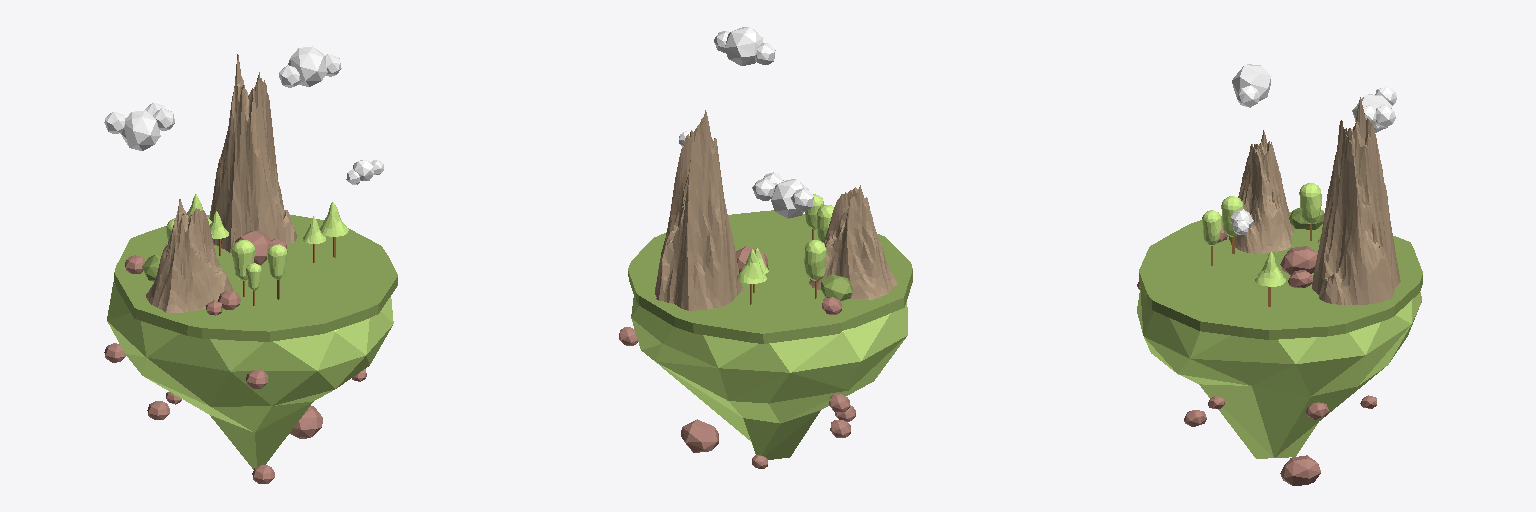
The picture shows the model from 3 angles: view 1: azimuth 30°, elevation 25°; view 2: azimuth 150°, elevation 25°; view 3: azimuth 270°, elevation 25°; orthographic projection.
Parts seen in each view (by area): view 1: 球体_1, 立方体_3, 地形, 地形_1, 球体.13, 球体, 胶囊, 球体.10, 球体.3, 圆锥, 胶囊.2; view 2: 球体_1, 立方体_3, 地形, 地形_1, 球体, 球体.10, 球体.13, 胶囊.3, 球体.4, 圆锥.3; view 3: 球体_1, 立方体_3, 地形, 地形_1, 球体.10, 球体, 球体.3, 胶囊.3, 圆锥, 胶囊.2, 胶囊.
Part boxes in pixels (x1,y1,x2,y2): 球体_1: (107, 282, 393, 469); 立方体_3: (114, 214, 397, 341); 地形: (209, 54, 296, 252); 地形_1: (146, 199, 233, 312); 球体.13: (120, 110, 160, 150); 球体: (288, 46, 327, 86); 胶囊: (232, 240, 254, 280); 球体.10: (289, 406, 322, 438); 球体.3: (235, 231, 273, 264); 圆锥: (320, 202, 348, 236); 胶囊.2: (267, 244, 287, 279); 球体_1: (631, 296, 907, 459); 立方体_3: (628, 210, 912, 343); 地形: (655, 110, 742, 310); 地形_1: (809, 185, 897, 299); 球体: (725, 27, 762, 65); 球体.10: (681, 419, 718, 452); 球体.13: (771, 179, 808, 218); 胶囊.3: (804, 240, 826, 280); 球体.4: (821, 274, 852, 300); 圆锥.3: (737, 249, 766, 283); 球体_1: (1137, 287, 1421, 458); 立方体_3: (1139, 212, 1422, 339); 地形: (1312, 97, 1400, 304); 地形_1: (1229, 130, 1294, 253); 球体.10: (1280, 455, 1320, 485); 球体: (1232, 64, 1270, 100); 球体.3: (1280, 246, 1317, 274); 胶囊.3: (1299, 183, 1321, 223); 圆锥: (1255, 252, 1285, 286); 胶囊.2: (1202, 210, 1221, 245); 胶囊: (1221, 196, 1243, 236).
Bounding box in the file's own units: 210 × 323 × 202.